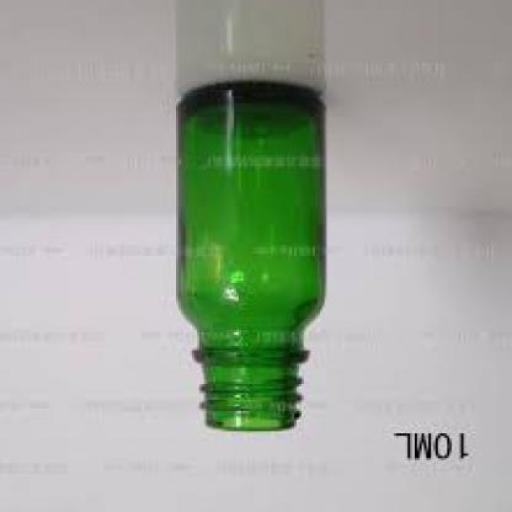glass: (176, 85, 329, 433)
